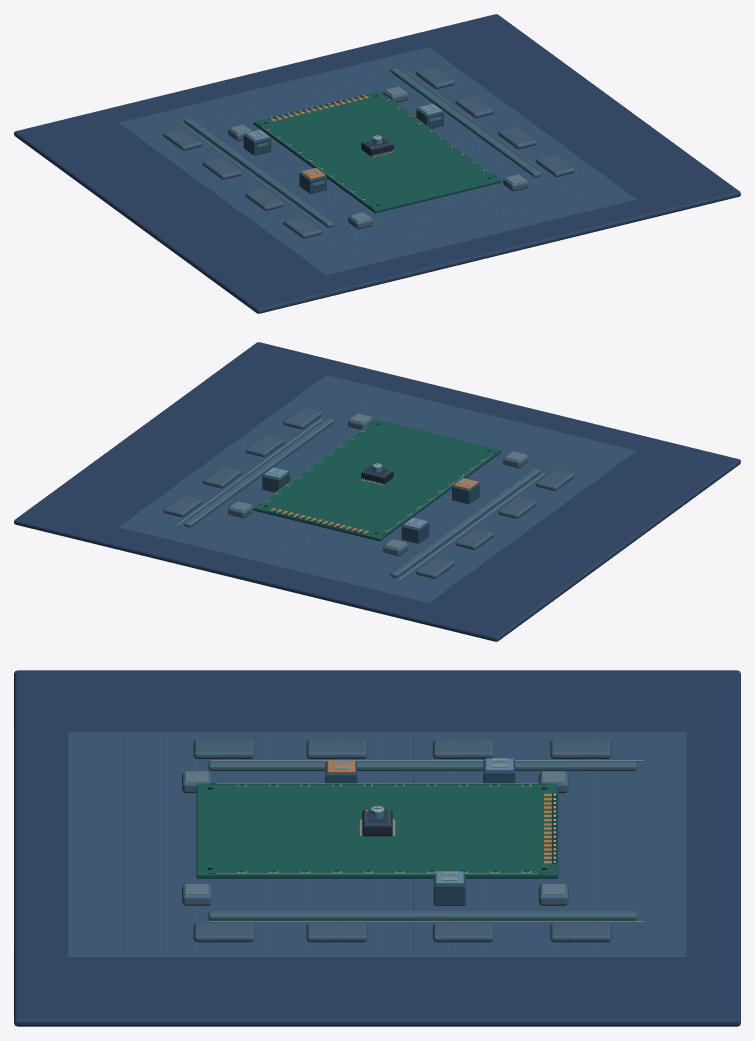
The model's file is workshop.glb.
3 renders of one model, top to bottom at view 1: azimuth 30°, elevation 25°; view 2: azimuth 150°, elevation 25°; view 3: azimuth 270°, elevation 25°, orthographic. The views are drawn at different scales.
Parts seen in each view (by area): view 1: bench, board; view 2: bench, board; view 3: bench, board, eastRail, westRail, connector, microcontroller.
Part boxes in pixels (bbox=[...]): bench: bbox=[14, 14, 740, 313]; board: bbox=[253, 91, 501, 213]; bench: bbox=[14, 342, 740, 641]; board: bbox=[253, 419, 501, 541]; bench: bbox=[14, 670, 740, 1026]; board: bbox=[196, 783, 558, 878]; eastRail: bbox=[206, 866, 548, 874]; westRail: bbox=[207, 783, 547, 789]; connector: bbox=[544, 793, 557, 863]; microcontroller: bbox=[359, 809, 395, 836].
Bounding box in the file's own units: 184 × 10.76 × 161.
